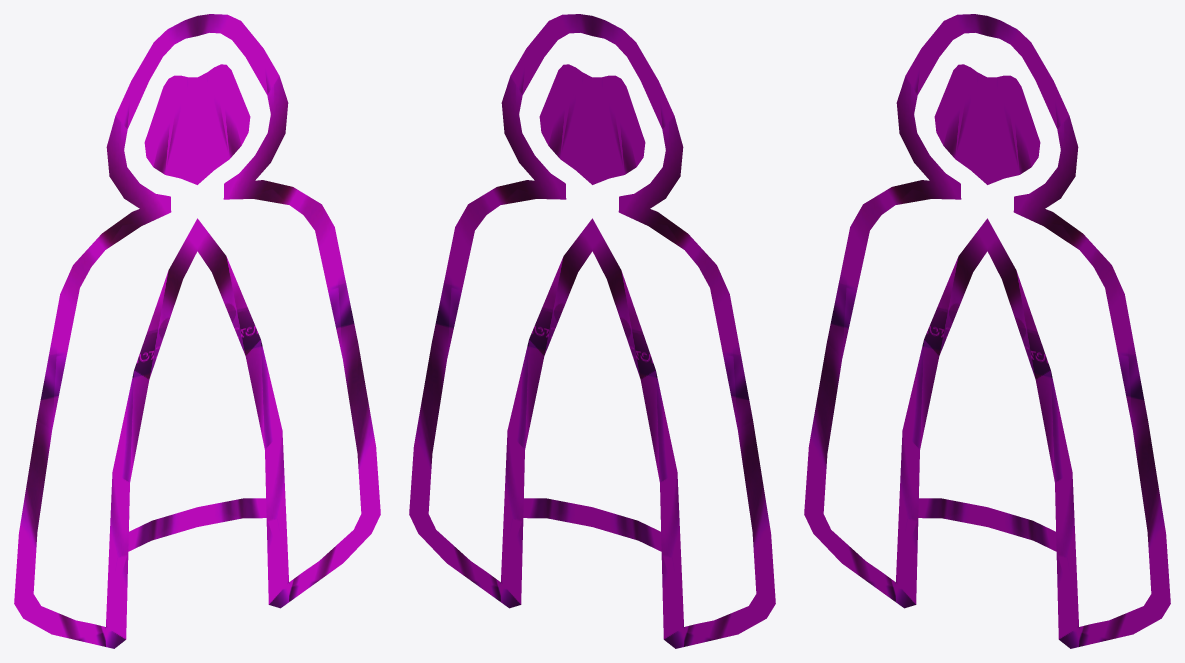
The model's file is invisible.obj.
The picture shows the model from 3 angles, left to right: view 1: azimuth 30°, elevation 25°; view 2: azimuth 150°, elevation 25°; view 3: azimuth 330°, elevation 25°; orthographic projection.
Parts seen in each view (by area): view 1: Plane.001; view 2: Plane.001; view 3: Plane.001.
Boxes of the visible parts, <box> form: Plane.001: <box>14,14,380,648</box>; Plane.001: <box>409,14,775,648</box>; Plane.001: <box>804,14,1170,648</box>.
Size of the model in its own units: 0.0195 by 0.0312 by 0.
Materials: 1 (1 with a texture image).
